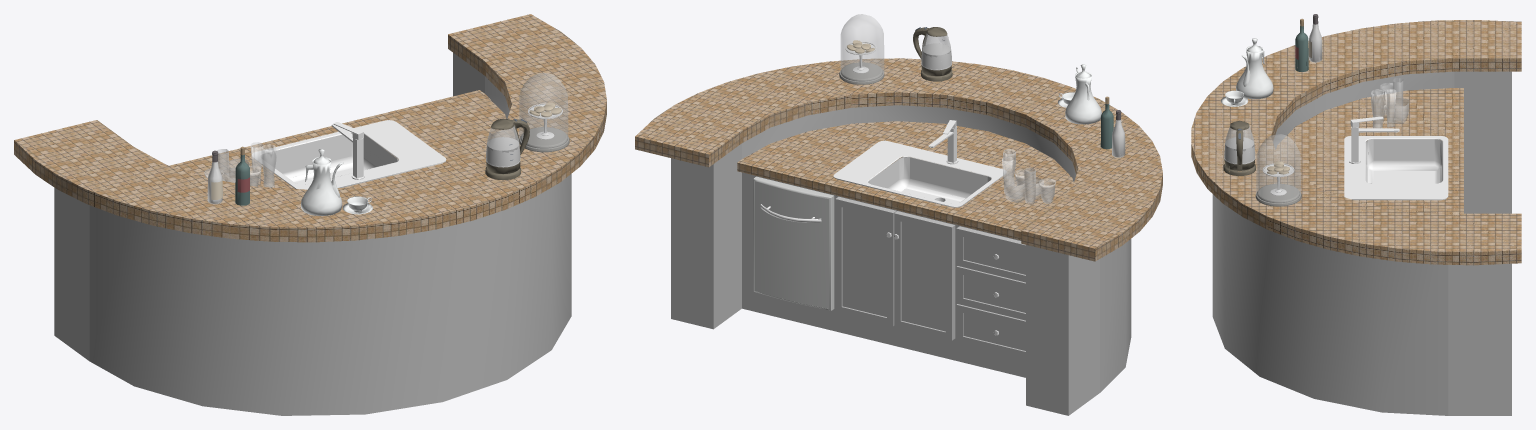
File: coffeeCompressed.fbx
3 renders of one model, left to right at view 1: azimuth 30°, elevation 25°; view 2: azimuth 150°, elevation 25°; view 3: azimuth 270°, elevation 25°, orthographic. The views are drawn at different scales.
Visible parts, largest first — view 1: Furniture_2veAGqtIr5Ceqep5npMkf_; view 2: Furniture_2veAGqtIr5Ceqep5npMkf_; view 3: Furniture_2veAGqtIr5Ceqep5npMkf_.
Boxes of the visible parts, x1=… form: Furniture_2veAGqtIr5Ceqep5npMkf_: x1=14, y1=14, x2=606, y2=415; Furniture_2veAGqtIr5Ceqep5npMkf_: x1=635, y1=14, x2=1162, y2=415; Furniture_2veAGqtIr5Ceqep5npMkf_: x1=1191, y1=14, x2=1521, y2=415.
Size of the model in its own units: 293 by 142 by 176.
